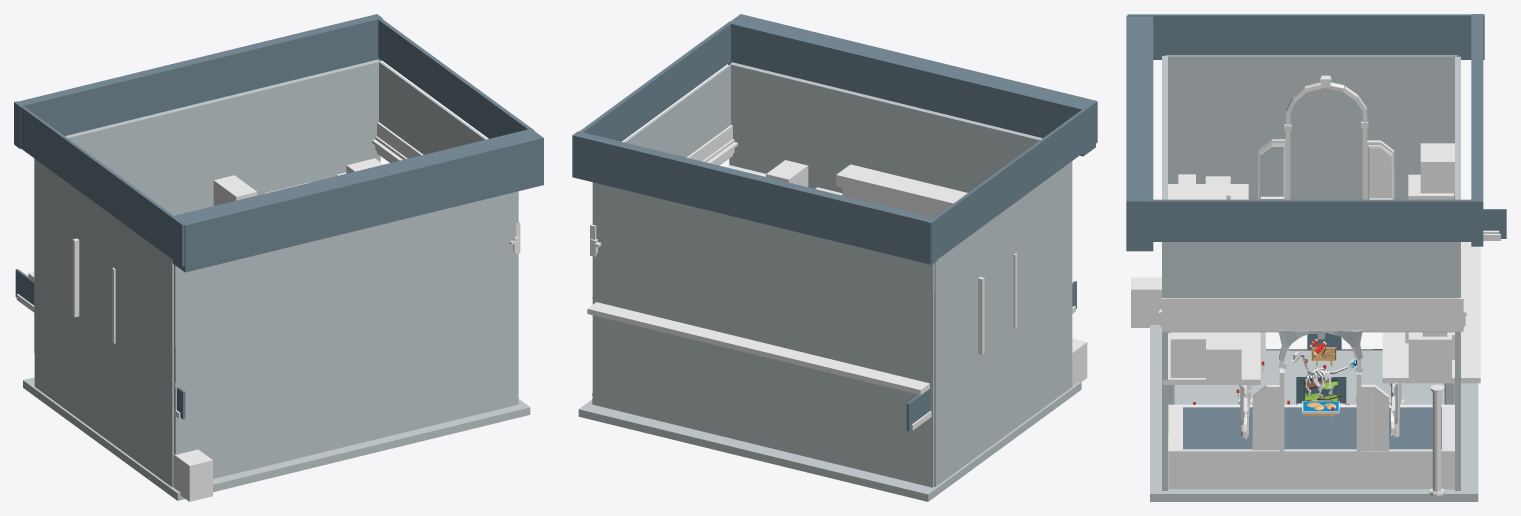
The model's file is The Entryway - Museum Diorama.glb.
3 views of the same model, side by side, from view 1: azimuth 30°, elevation 25°; view 2: azimuth 150°, elevation 25°; view 3: azimuth 270°, elevation 25° (orthographic). The views are drawn at different scales.
Visible parts, largest first — view 1: group853941034, group395243803, group156993652, group1953011220, group1925979723, group689543294, group558278867, group436196863, group793193501, group1582220023, group149663869, group1612683714 (+2 smaller); view 2: group156993652, group395243803, group853941034, group1925979723, group1953011220, group689543294, group558278867, group436196863, group719696710, group793193501, group1152385336, group149663869 (+5 smaller); view 3: group395243803, group1166085555, group793193501, group558278867, group436196863, group689543294, group1676229897, group1953011220, group391671949, group719696710, group149663869, group1925979723 (+17 smaller).
Part boxes in pixels (<box>): group853941034: <box>174,191,518,478</box>; group395243803: <box>34,159,173,487</box>; group156993652: <box>34,59,380,353</box>; group1953011220: <box>172,129,543,272</box>; group1925979723: <box>14,14,382,148</box>; group689543294: <box>14,101,185,266</box>; group558278867: <box>23,377,530,500</box>; group436196863: <box>378,19,534,138</box>; group793193501: <box>379,61,486,154</box>; group1582220023: <box>173,449,212,501</box>; group149663869: <box>72,238,115,343</box>; group1612683714: <box>213,175,257,205</box>; group156993652: <box>592,182,934,487</box>; group395243803: <box>934,161,1072,486</box>; group853941034: <box>729,62,1042,192</box>; group1925979723: <box>572,131,937,264</box>; group1953011220: <box>728,14,1095,156</box>; group689543294: <box>927,100,1097,264</box>; group558278867: <box>578,381,1081,501</box>; group436196863: <box>579,21,732,141</box>; group719696710: <box>587,302,929,395</box>; group793193501: <box>623,65,730,157</box>; group1152385336: <box>836,164,967,211</box>; group149663869: <box>978,253,1017,354</box>; group395243803: <box>1165,55,1457,199</box>; group1166085555: <box>1168,397,1454,489</box>; group793193501: <box>1164,242,1457,332</box>; group558278867: <box>1150,325,1478,501</box>; group436196863: <box>1148,199,1471,241</box>; group689543294: <box>1127,14,1484,59</box>; group1676229897: <box>1162,296,1463,331</box>; group1953011220: <box>1126,15,1153,251</box>; group391671949: <box>1252,332,1389,454</box>; group719696710: <box>1382,242,1480,383</box>; group149663869: <box>1258,75,1394,199</box>; group1925979723: <box>1471,14,1483,246</box>.
Bounding box in the file's own units: 9.61 × 7.19 × 8.2.
